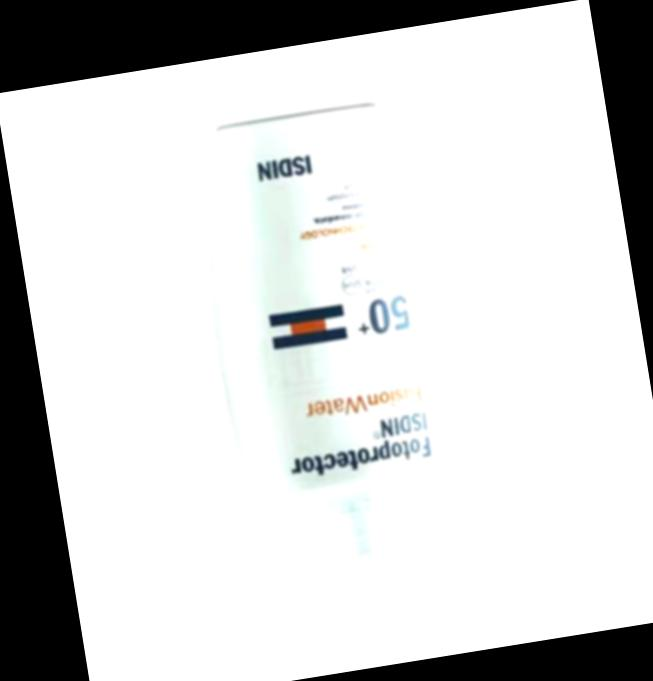cosmetic: (193, 95, 473, 623)
